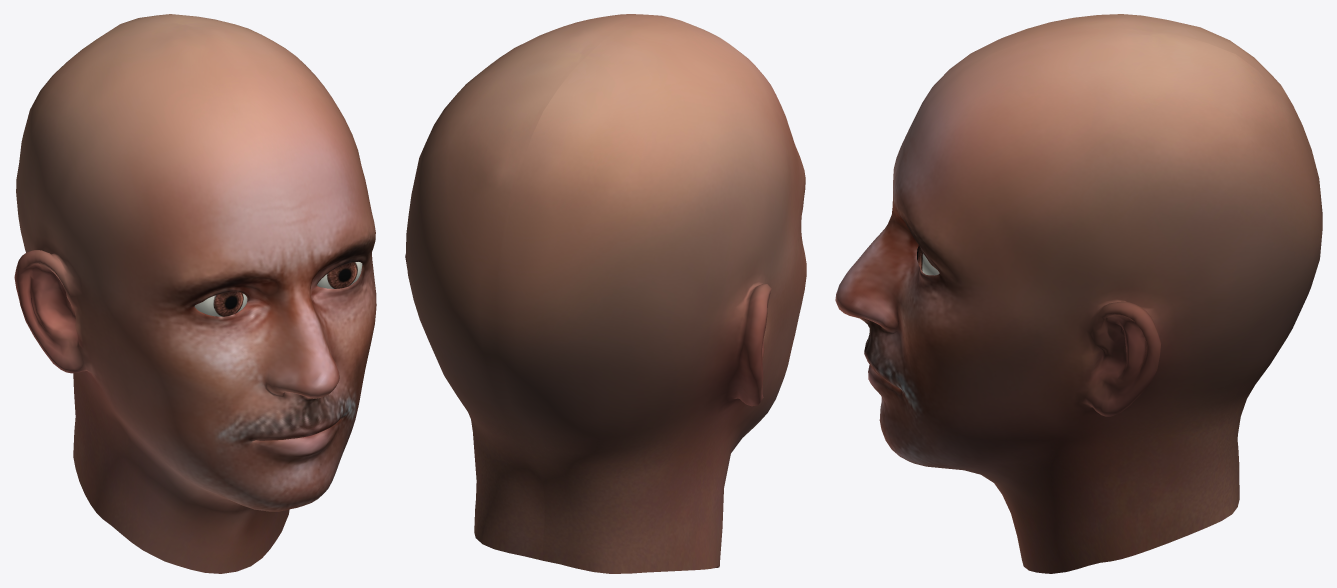
Rendered from HeadObject.fbx.
3 renders of one model, left to right at view 1: azimuth 30°, elevation 25°; view 2: azimuth 150°, elevation 25°; view 3: azimuth 270°, elevation 25°, orthographic. The views are drawn at different scales.
Visible parts, largest first — view 1: Head; view 2: Head; view 3: Head.
Part boxes in pixels (bbox=[...]): Head: bbox=[14, 14, 376, 573]; Head: bbox=[405, 14, 806, 573]; Head: bbox=[835, 14, 1322, 573].
Bounding box in the file's own units: 0.1665 × 0.2479 × 0.2052.
1 material, 1 textured.
